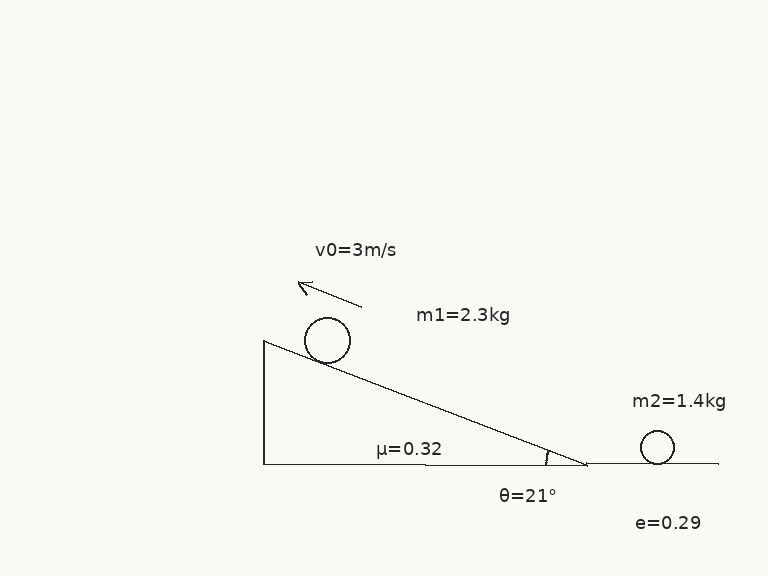ball: (302, 315, 352, 365), (638, 428, 676, 466)
ramp: (261, 338, 588, 466)
